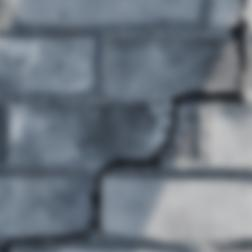brick: (102, 176, 251, 236), (0, 37, 94, 93), (0, 175, 89, 234), (15, 0, 201, 23), (211, 110, 251, 164), (58, 246, 189, 251), (215, 246, 251, 251), (11, 246, 42, 251)
broken_brick: (9, 103, 170, 164), (106, 37, 238, 96), (165, 105, 198, 164), (215, 0, 240, 25), (248, 60, 251, 96), (249, 44, 251, 56), (250, 5, 251, 20)
crack: (2, 0, 251, 251), (56, 104, 79, 148), (31, 247, 59, 251)
